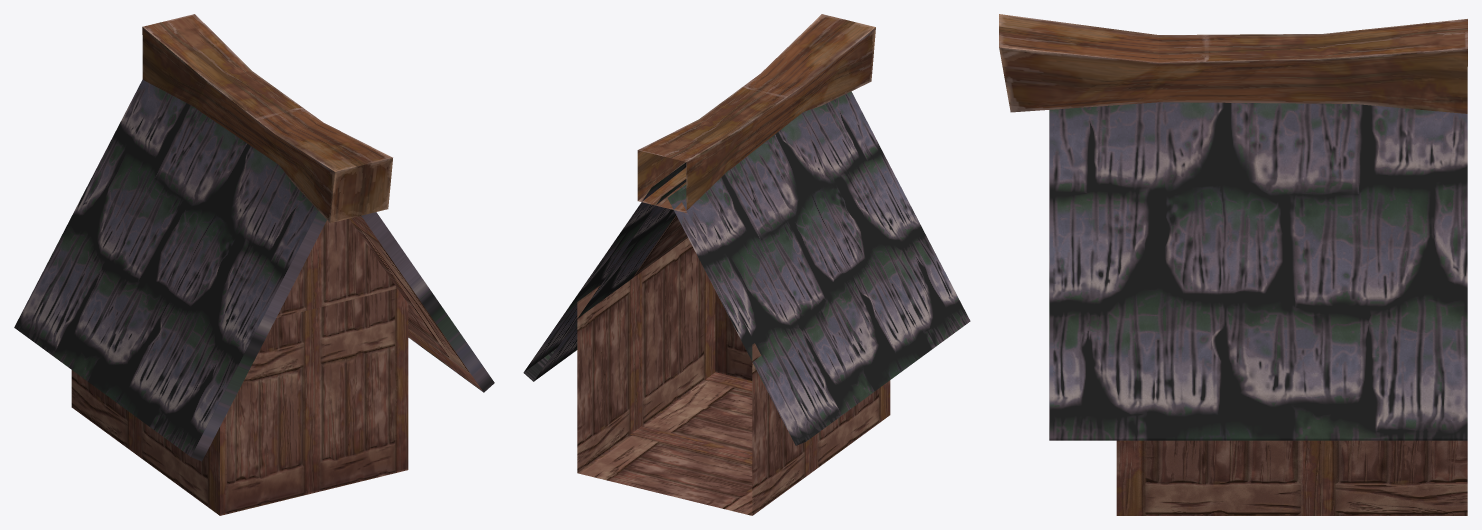
The model's file is little_wall_roof.fbx.
3 views of the same model, side by side, from view 1: azimuth 30°, elevation 25°; view 2: azimuth 150°, elevation 25°; view 3: azimuth 270°, elevation 25° (orthographic). The views are drawn at different scales.
Parts seen in each view (by area): view 1: little_wall_roof; view 2: little_wall_roof; view 3: little_wall_roof.
Part boxes in pixels (<box>): little_wall_roof: <box>14,14,494,515</box>; little_wall_roof: <box>523,14,970,515</box>; little_wall_roof: <box>999,14,1467,515</box>.
Bounding box in the file's own units: 111 × 128 × 126.
